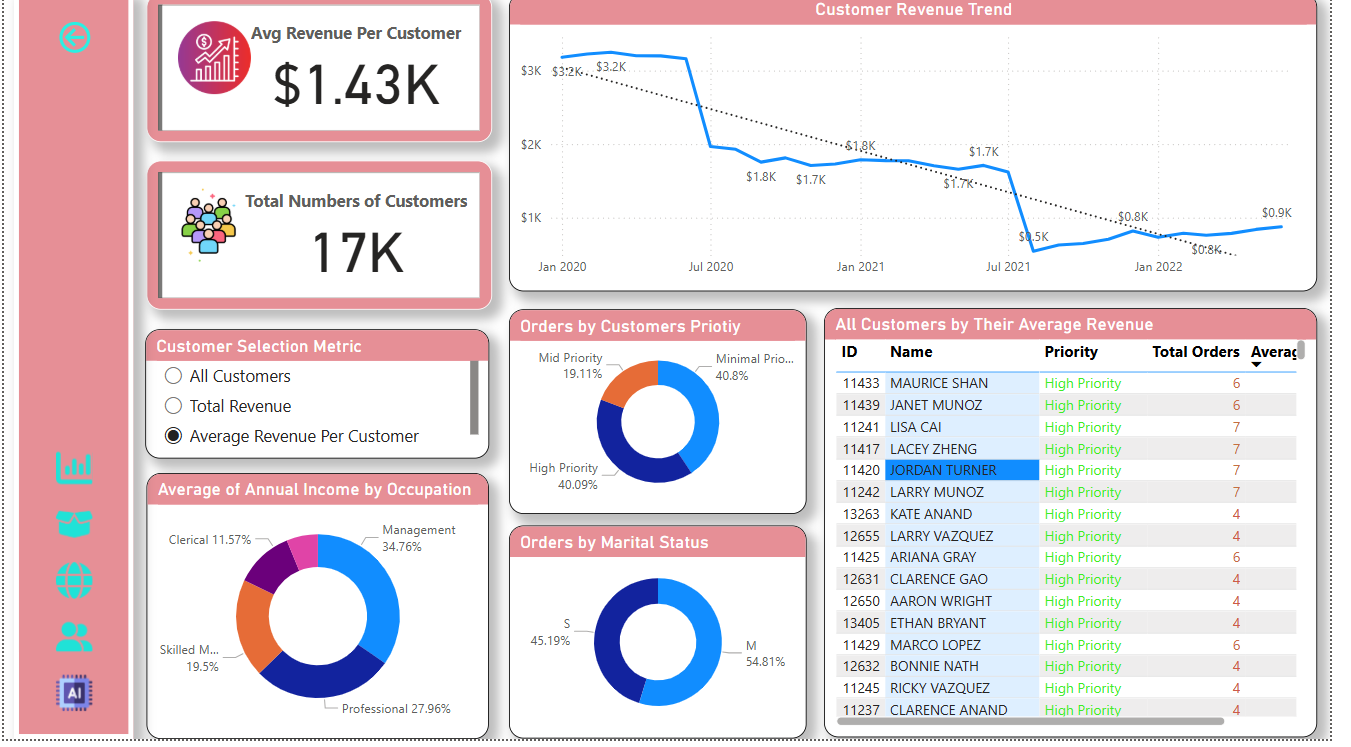

This screenshot's page, from the dashboard's own definition file:
{"tool":"powerbi","page":{"name":"Customer Dashboard","canvas":[1280,720],"ordinal":3},"visuals":[{"type":"actionButton","box":[27.7,436.7,79.6,43.4],"z":0,"group":"g1"},{"type":"cardVisual","fields":{"Data":["_Measure.Average Revenue Per Customer"]},"box":[138,0,333.7,144.4],"z":0},{"type":"actionButton","box":[27.7,491,79.6,43.4],"z":1000,"group":"g1"},{"type":"cardVisual","fields":{"Data":["_Measure.Total Customer Those Product Buy"]},"box":[138,162,333.7,144.4],"z":1000},{"type":"lineChart","title":"Customer Revenue Trend","fields":{"Y":["_Measure.Average Revenue Per Customer"],"Category":["Calendar Lookup.Date Hierarchy.Year","Calendar Lookup.Date Hierarchy.Start of Quarter","Calendar Lookup.Date Hierarchy.Start of Month"]},"box":[487.2,0,780.2,288.1],"z":2000},{"type":"actionButton","box":[27.7,545.3,79.6,43.4],"z":2000,"group":"g1"},{"type":"actionButton","box":[27.7,599.6,79.6,43.4],"z":3000,"group":"g1"},{"type":"slicer","title":"Customer Selection Metric","fields":{"Values":["Parameter 3.Parameter"]},"box":[136.4,324.1,332.1,125.1],"z":3000},{"type":"actionButton","box":[27.7,653.9,79.6,43.4],"z":4000,"group":"g1"},{"type":"tableEx","title":"All Customers by Their Average Revenue","fields":{"Values":["Sales Data.CustomerKey","Customer Lookup.Name","Customer Lookup.Priority Customer","_Measure.Total Orders","_Measure.Average Revenue Per Customer"]},"box":[791.5,304.3,475.9,414.4],"z":4000},{"type":"donutChart","title":"Average of Annual Income by Occupation","fields":{"Y":["Customer Lookup.AnnualIncome"],"Category":["Customer Lookup.Occupation"]},"box":[138,463.7,330.5,256.7],"z":5000},{"type":"donutChart","title":"Orders by Customers Priotiy","fields":{"Category":["Customer Lookup.Priority Customer"],"Y":["_Measure.Total Orders"]},"box":[487.7,304.8,287.2,197.3],"z":6000},{"type":"donutChart","title":"Orders by Marital Status","fields":{"Category":["Customer Lookup.MaritalStatus"],"Y":["_Measure.Total Orders"]},"box":[487.7,513.4,287.2,205.4],"z":7000},{"type":"shape","box":[10.2,0,115.2,720.3],"z":8000},{"type":"group","id":"g1","title":"Group 1","box":[27.7,436.7,79.6,260.6],"z":9000},{"type":"actionButton","box":[18.1,22.9,100.1,39.8],"z":10000}]}

Visuals, with their boxes on the page's 1280x720 design canvas (x1, y1, x2, y2). These are canvas units, not pixel positions in the 1351x747 screenshot, which may show the page scaled, cropped or inside an application window:
actionButton: (x1=28, y1=437, x2=107, y2=480)
cardVisual - _Measure.Average Revenue Per Customer: (x1=138, y1=0, x2=472, y2=144)
actionButton: (x1=28, y1=491, x2=107, y2=534)
cardVisual - _Measure.Total Customer Those Product Buy: (x1=138, y1=162, x2=472, y2=306)
"Customer Revenue Trend" lineChart: (x1=487, y1=0, x2=1267, y2=288)
actionButton: (x1=28, y1=545, x2=107, y2=589)
actionButton: (x1=28, y1=600, x2=107, y2=643)
"Customer Selection Metric" slicer: (x1=136, y1=324, x2=468, y2=449)
actionButton: (x1=28, y1=654, x2=107, y2=697)
"All Customers by Their Average Revenue" tableEx: (x1=792, y1=304, x2=1267, y2=719)
"Average of Annual Income by Occupation" donutChart: (x1=138, y1=464, x2=468, y2=720)
"Orders by Customers Priotiy" donutChart: (x1=488, y1=305, x2=775, y2=502)
"Orders by Marital Status" donutChart: (x1=488, y1=513, x2=775, y2=719)
shape: (x1=10, y1=0, x2=125, y2=720)
"Group 1" group: (x1=28, y1=437, x2=107, y2=697)
actionButton: (x1=18, y1=23, x2=118, y2=63)
